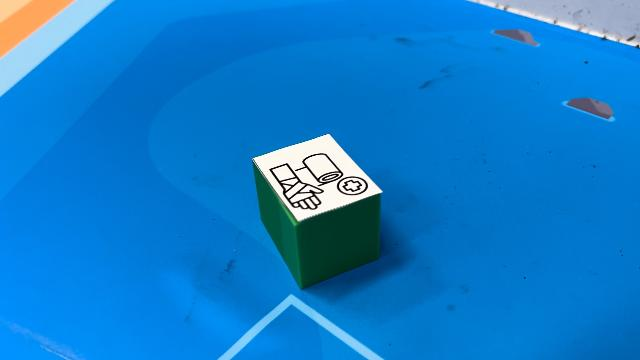bandage: (251, 133, 383, 289)
